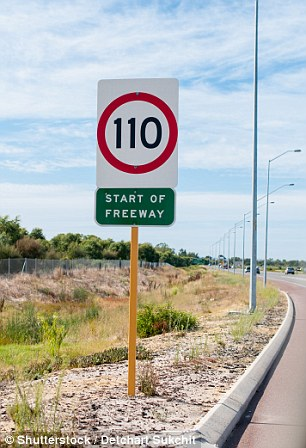Speed_limit_110km: (96, 91, 178, 174)
